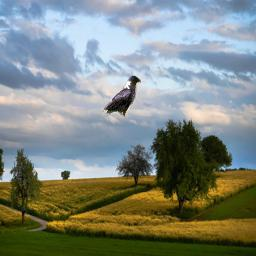Crow: (102, 74, 141, 118)
